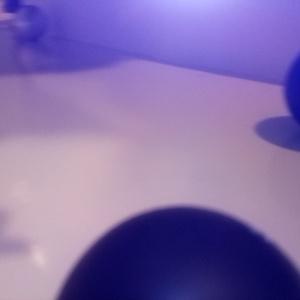alive_ball: (13, 6, 47, 42)
dead_ball: (54, 206, 300, 300), (285, 51, 300, 122), (4, 1, 21, 13)
